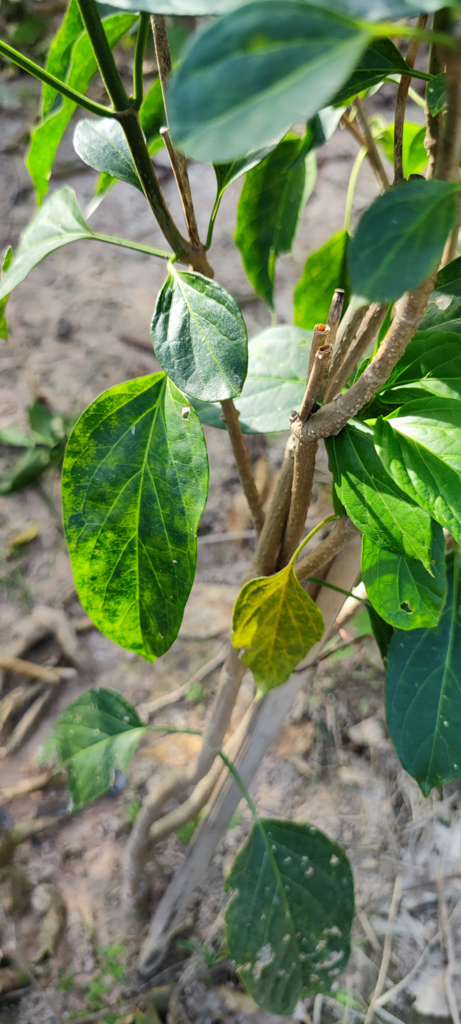Pepper yellow leaf: (233, 559, 314, 699)
